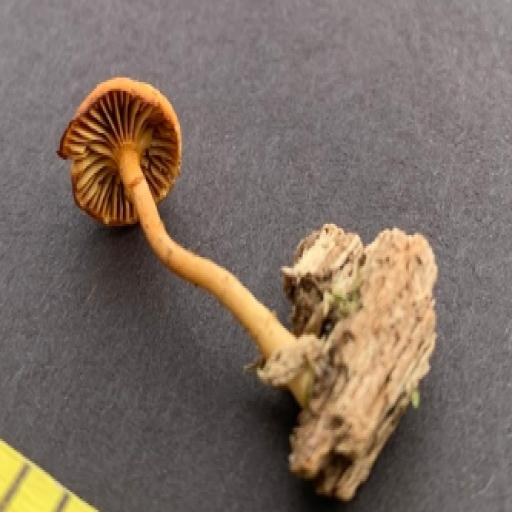Funeral Bell: (51, 58, 289, 358)
